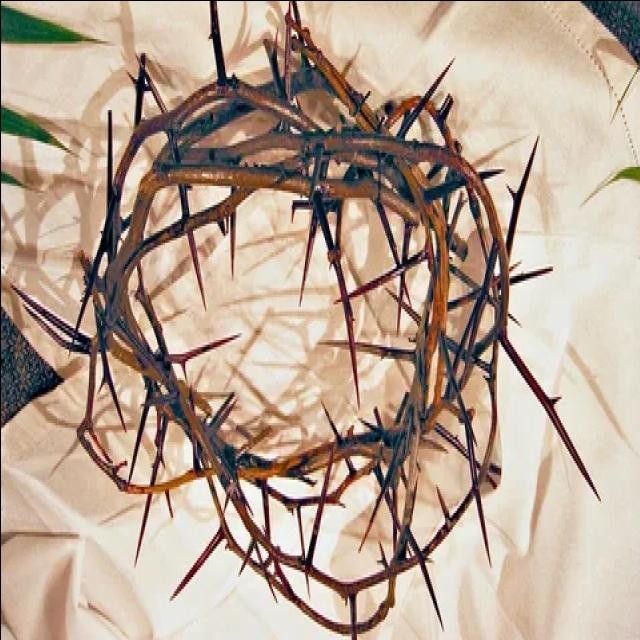crown: (69, 39, 525, 618)
